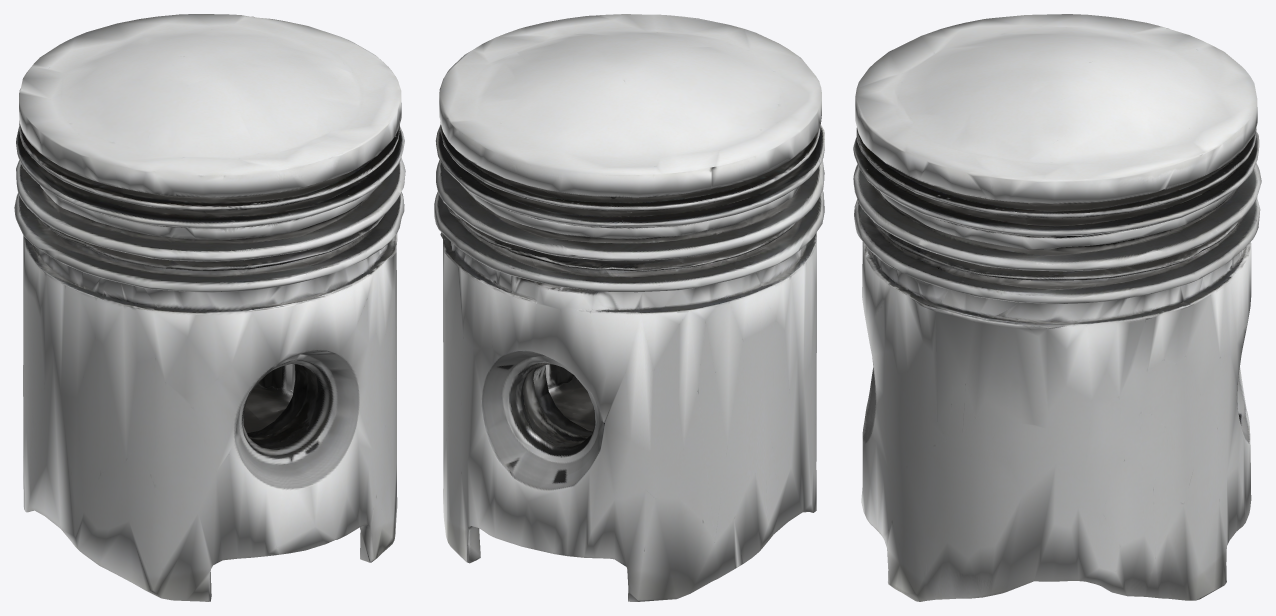
File: piston.glb
3 views of the same model, side by side, from view 1: azimuth 30°, elevation 25°; view 2: azimuth 150°, elevation 25°; view 3: azimuth 270°, elevation 25° (orthographic). The views are drawn at different scales.
Size of the model in its own units: 1.55 by 2 by 1.55.
Materials: 1 (1 with a texture image).
